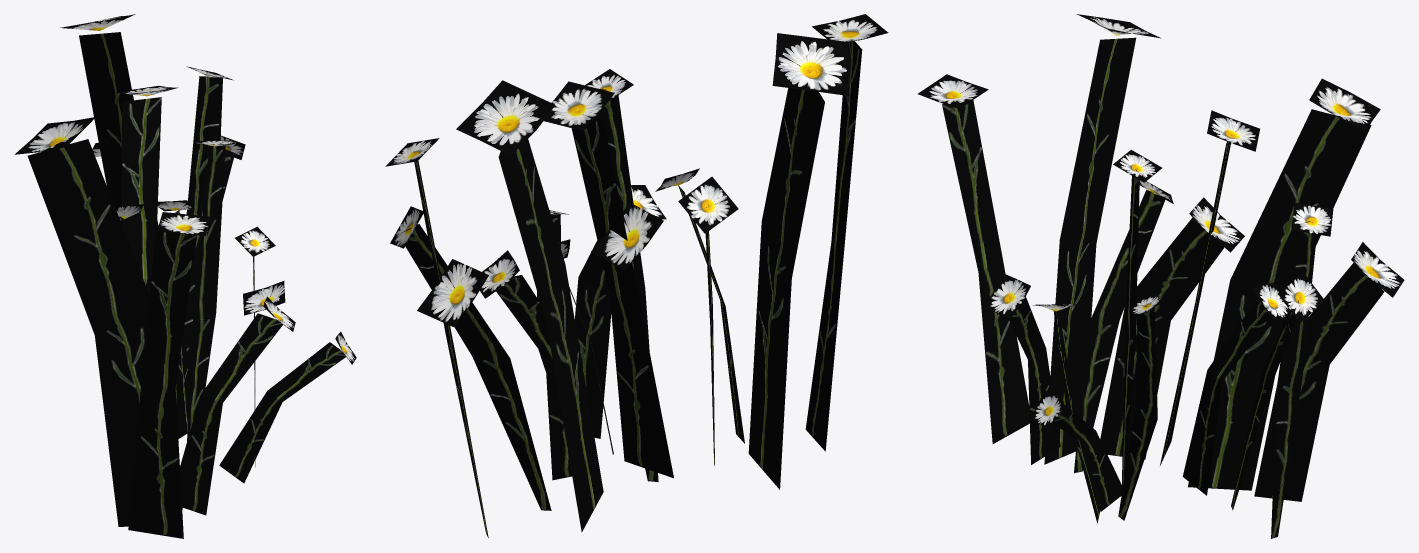
Rendered from 08_Leucanthemum_vulgare_02_big_001.fbx.
3 views of the same model, side by side, from view 1: azimuth 30°, elevation 25°; view 2: azimuth 150°, elevation 25°; view 3: azimuth 270°, elevation 25° (orthographic). The views are drawn at different scales.
Visible parts, largest first — view 1: 08_Leucanthemum_vulgare_02_big.001; view 2: 08_Leucanthemum_vulgare_02_big.001; view 3: 08_Leucanthemum_vulgare_02_big.001.
Part boxes in pixels (x1,y1,x2,y2): 08_Leucanthemum_vulgare_02_big.001: (15, 14, 356, 538); 08_Leucanthemum_vulgare_02_big.001: (385, 14, 888, 537); 08_Leucanthemum_vulgare_02_big.001: (918, 14, 1404, 538).
Bounding box in the file's own units: 0.2771 × 0.3534 × 0.3667.
